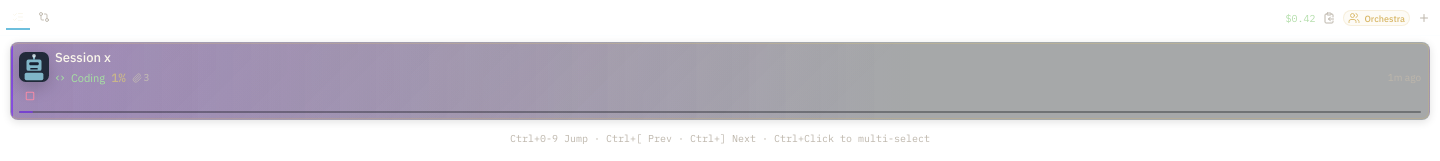
AgentInspector tab routing › does not claim there are no file changes when only an estimated file count exists
The image size is (1440, 161).
Click the button named "File diffs": coordinates (44, 18) 32,6 -> 56,30
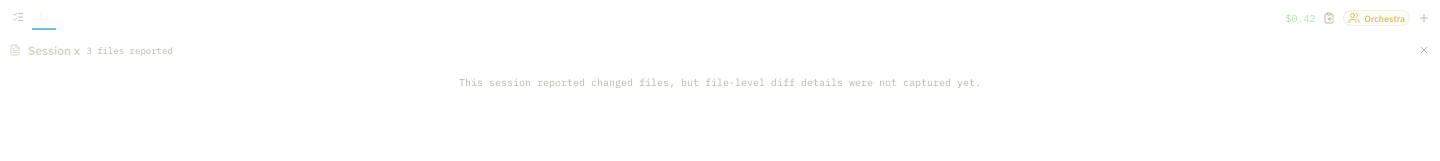
expect the text "This session reported changed files, but file-level diff details were not captured yet." is shown: met, box 459,76 -> 981,89
